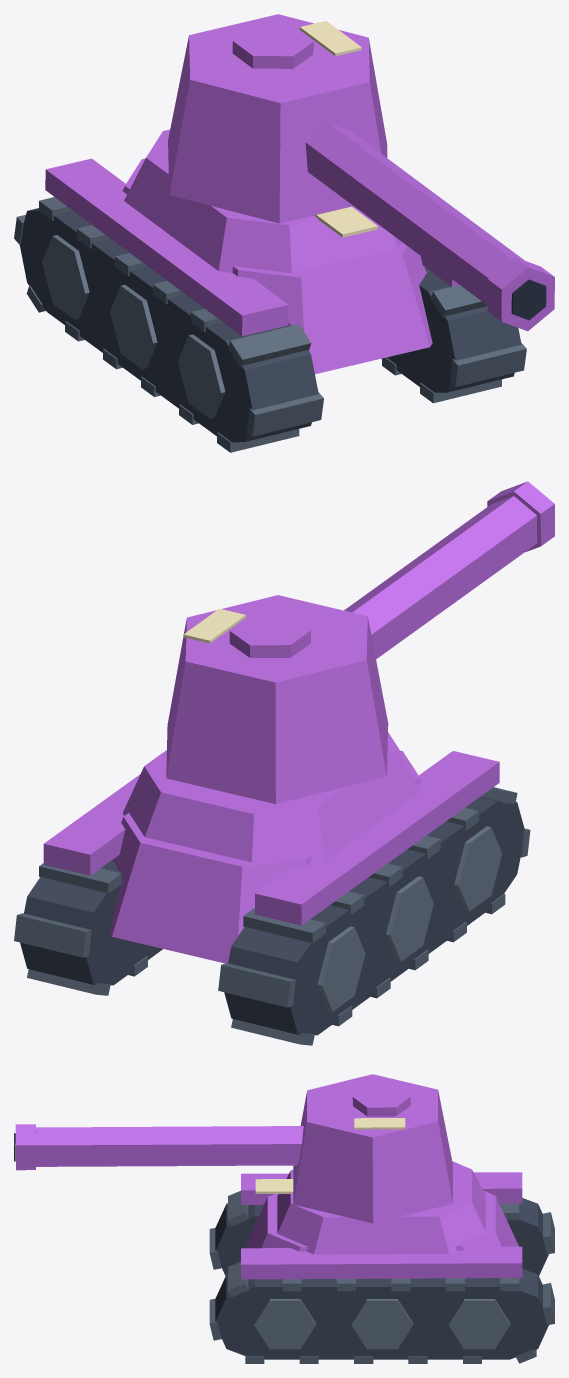
Rendered from tank_05_violet_marksman.glb.
3 renders of one model, top to bottom at view 1: azimuth 30°, elevation 25°; view 2: azimuth 150°, elevation 25°; view 3: azimuth 270°, elevation 25°, orthographic. The views are drawn at different scales.
Visible parts, largest first — view 1: 05 | Faceted turret.002, 05 | Track belt.001, 05 | Lower hull.001, 05 | Cannon tube.001, 05 | Upper deck.001, 05 | Track guard.001, 05 | Track belt.002, 05 | Commander hatch.001, 05 | Muzzle rim.001, 05 | Road wheel.002, 05 | Road wheel.003, 05 | Road wheel.001 (+9 smaller); view 2: 05 | Faceted turret.002, 05 | Track belt.001, 05 | Upper deck.001, 05 | Lower hull.001, 05 | Track guard.001, 05 | Cannon tube.001, 05 | Track belt.002, 05 | Track guard.002, 05 | Commander hatch.001, 05 | Road wheel.002, 05 | Road wheel.003, 05 | Road wheel.001 (+8 smaller); view 3: 05 | Faceted turret.002, 05 | Track belt.002, 05 | Cannon tube.001, 05 | Upper deck.001, 05 | Track guard.002, 05 | Track belt.001, 05 | Lower hull.001, 05 | Road wheel.006, 05 | Road wheel.005, 05 | Road wheel.004, 05 | Track guard.001, 05 | Commander hatch.001 (+7 smaller).
Boxes of the visible parts, <box> form: 05 | Faceted turret.002: <box>168,14,387,223</box>; 05 | Track belt.001: <box>19,208,318,442</box>; 05 | Lower hull.001: <box>123,158,432,374</box>; 05 | Cannon tube.001: <box>305,122,524,305</box>; 05 | Upper deck.001: <box>124,129,401,273</box>; 05 | Track guard.001: <box>45,158,288,336</box>; 05 | Track belt.002: <box>381,271,521,392</box>; 05 | Commander hatch.001: <box>232,26,313,68</box>; 05 | Muzzle rim.001: <box>487,257,554,331</box>; 05 | Road wheel.002: <box>110,284,157,369</box>; 05 | Road wheel.003: <box>42,235,89,319</box>; 05 | Road wheel.001: <box>178,334,225,418</box>; 05 | Faceted turret.002: <box>166,595,388,803</box>; 05 | Track belt.001: <box>224,796,524,1035</box>; 05 | Upper deck.001: <box>122,732,420,862</box>; 05 | Lower hull.001: <box>109,750,421,963</box>; 05 | Track guard.001: <box>255,751,499,925</box>; 05 | Cannon tube.001: <box>344,496,537,659</box>; 05 | Track belt.002: <box>20,860,162,985</box>; 05 | Track guard.002: <box>43,774,140,875</box>; 05 | Commander hatch.001: <box>229,616,310,657</box>; 05 | Road wheel.002: <box>386,876,433,961</box>; 05 | Road wheel.003: <box>317,926,365,1011</box>; 05 | Road wheel.001: <box>454,826,502,911</box>; 05 | Faceted turret.002: <box>293,1074,452,1223</box>; 05 | Track belt.002: <box>215,1268,548,1359</box>; 05 | Cannon tube.001: <box>35,1126,303,1166</box>; 05 | Upper deck.001: <box>277,1161,485,1254</box>; 05 | Track guard.002: <box>241,1246,522,1279</box>; 05 | Track belt.001: <box>215,1198,548,1275</box>; 05 | Lower hull.001: <box>245,1191,518,1251</box>; 05 | Road wheel.006: <box>448,1299,510,1349</box>; 05 | Road wheel.005: <box>351,1299,413,1349</box>; 05 | Road wheel.004: <box>254,1299,315,1349</box>; 05 | Track guard.001: <box>241,1172,522,1204</box>; 05 | Commander hatch.001: <box>352,1086,410,1116</box>.
Size of the model in its own units: 1.26 by 1.34 by 2.97.
